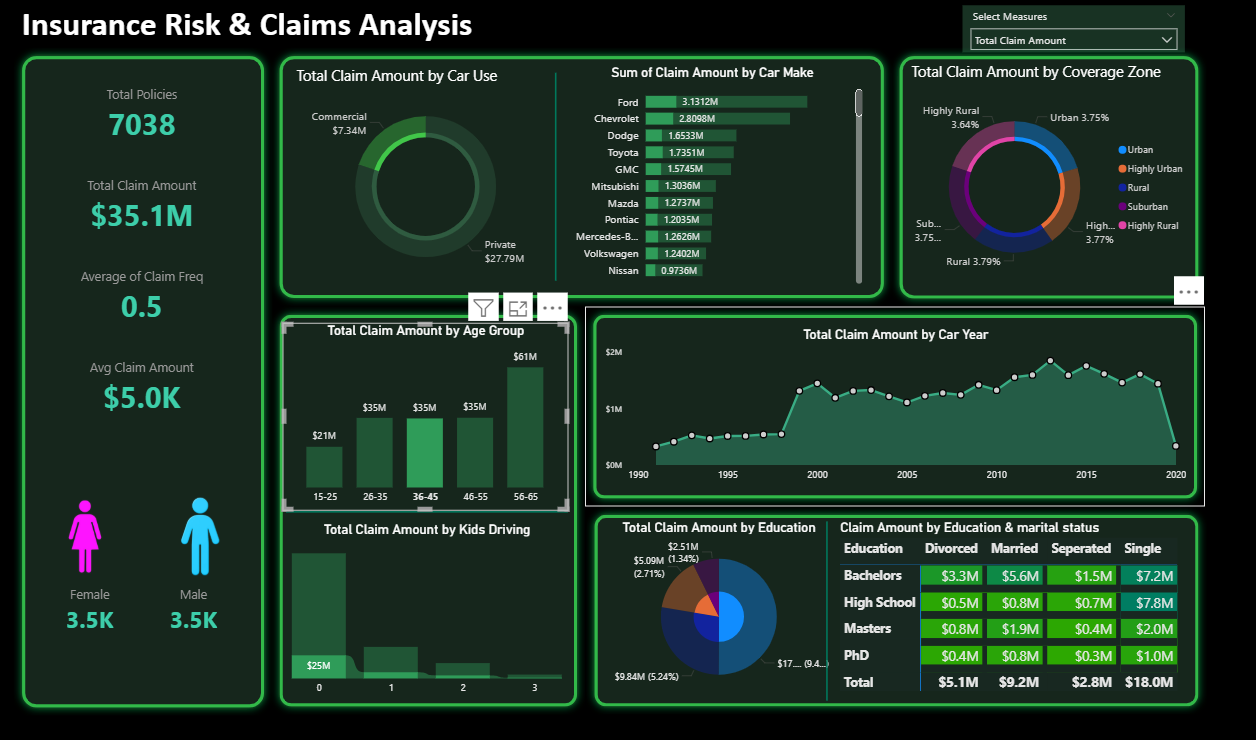

The page's visual inventory and layout, read from the dashboard file:
{"tool":"powerbi","page":{"name":"Page 1","canvas":[1600,950],"ordinal":0},"visuals":[{"type":"textbox","box":[0,0,629.5,61.7],"z":0},{"type":"shape","box":[17.2,61.7,329.3,850.8],"z":1000},{"type":"cardVisual","fields":{"Data":["insurance_data_car.Total Policies","insurance_data_car.Total Claim Amount","Avg(insurance_data_car.Claim Freq)","insurance_data_car.Avg Claim Amount"]},"box":[46.3,90.9,269.3,459.7],"z":2000},{"type":"cardVisual","fields":{"Data":["insurance_data_car.Female Count","insurance_data_car.Male Count"]},"box":[51.5,722.1,260.7,109.8],"z":3000},{"type":"image","box":[197.3,627.8,114.9,114.9],"z":4000},{"type":"image","box":[51.5,627.8,114.9,114.9],"z":5000},{"type":"slicer","fields":{"Values":["Select Measures.Select Measures"]},"box":[1225.3,8,283.3,60],"z":6000},{"type":"shape","box":[344.8,61.7,790.7,329.3],"z":7000},{"type":"donutChart","fields":{"Y":["insurance_data_car.Total Policies"],"Category":["insurance_data_car.Car Use"]},"box":[372.2,84,339.6,284.7],"z":8000},{"type":"clusteredBarChart","fields":{"Category":["insurance_data_car.Car Make"],"Y":["Sum(insurance_data_car.Claim Amount)"]},"box":[711.7,83.3,391.7,285],"z":9000},{"type":"shape","box":[1135,61.7,401.7,330],"z":10000},{"type":"donutChart","fields":{"Y":["insurance_data_car.Total Policies"],"Category":["insurance_data_car.Coverage Zone"]},"box":[1155,80,365,295],"z":11000},{"type":"shape","box":[345,391.7,400,520],"z":12000},{"type":"clusteredColumnChart","fields":{"Y":["insurance_data_car.Total Policies"],"Category":["insurance_data_car.Age Group"]},"box":[360,411.7,365,240],"z":13000},{"type":"ribbonChart","fields":{"Y":["insurance_data_car.Total Policies"],"Category":["insurance_data_car.Kids Driving"]},"box":[365,665,358.3,230],"z":14000},{"type":"shape","box":[745,391.7,790,255],"z":15000},{"type":"areaChart","fields":{"Y":["insurance_data_car.Total Policies"],"Category":["insurance_data_car.Car Year"]},"box":[765,416.7,750,206.7],"z":16000},{"type":"shape","box":[746.7,646.7,790,265],"z":17000},{"type":"pieChart","fields":{"Y":["insurance_data_car.Total Policies"],"Category":["insurance_data_car.Education"]},"box":[765,661.7,300,230],"z":18000},{"type":"pivotTable","title":"Claim Amount by Education & marital status","fields":{"Columns":["insurance_data_car.Marital Status"],"Rows":["insurance_data_car.Education"],"Values":["insurance_data_car.Total Claim Amount"]},"box":[1065,661.7,450,230],"z":19000},{"type":"shape","box":[670,93.3,75,265],"z":20000},{"type":"shape","box":[1015,665,75,228.3],"z":21000},{"type":"shape","box":[365,625,358.3,55],"z":22000}]}

Visuals, with their boxes in screenshot pixels (x1, y1, x2, y2), scaled from the page's 1600x950 canvas onto the 1256x740 screenshot:
textbox: (left=0, top=0, right=494, bottom=48)
shape: (left=14, top=48, right=272, bottom=711)
cardVisual - insurance_data_car.Total Policies x insurance_data_car.Total Claim Amount: (left=36, top=71, right=248, bottom=429)
cardVisual - insurance_data_car.Female Count x insurance_data_car.Male Count: (left=40, top=562, right=245, bottom=648)
image: (left=155, top=489, right=245, bottom=579)
image: (left=40, top=489, right=131, bottom=579)
slicer - Select Measures.Select Measures: (left=962, top=6, right=1184, bottom=53)
shape: (left=271, top=48, right=891, bottom=305)
donutChart - insurance_data_car.Total Policies x insurance_data_car.Car Use: (left=292, top=65, right=559, bottom=287)
clusteredBarChart - insurance_data_car.Car Make x Sum(insurance_data_car.Claim Amount): (left=559, top=65, right=866, bottom=287)
shape: (left=891, top=48, right=1206, bottom=305)
donutChart - insurance_data_car.Total Policies x insurance_data_car.Coverage Zone: (left=907, top=62, right=1193, bottom=292)
shape: (left=271, top=305, right=585, bottom=710)
clusteredColumnChart - insurance_data_car.Total Policies x insurance_data_car.Age Group: (left=283, top=321, right=569, bottom=508)
ribbonChart - insurance_data_car.Total Policies x insurance_data_car.Kids Driving: (left=287, top=518, right=568, bottom=697)
shape: (left=585, top=305, right=1205, bottom=504)
areaChart - insurance_data_car.Total Policies x insurance_data_car.Car Year: (left=601, top=325, right=1189, bottom=486)
shape: (left=586, top=504, right=1206, bottom=710)
pieChart - insurance_data_car.Total Policies x insurance_data_car.Education: (left=601, top=515, right=836, bottom=695)
"Claim Amount by Education & marital status" pivotTable: (left=836, top=515, right=1189, bottom=695)
shape: (left=526, top=73, right=585, bottom=279)
shape: (left=797, top=518, right=856, bottom=696)
shape: (left=287, top=487, right=568, bottom=530)
